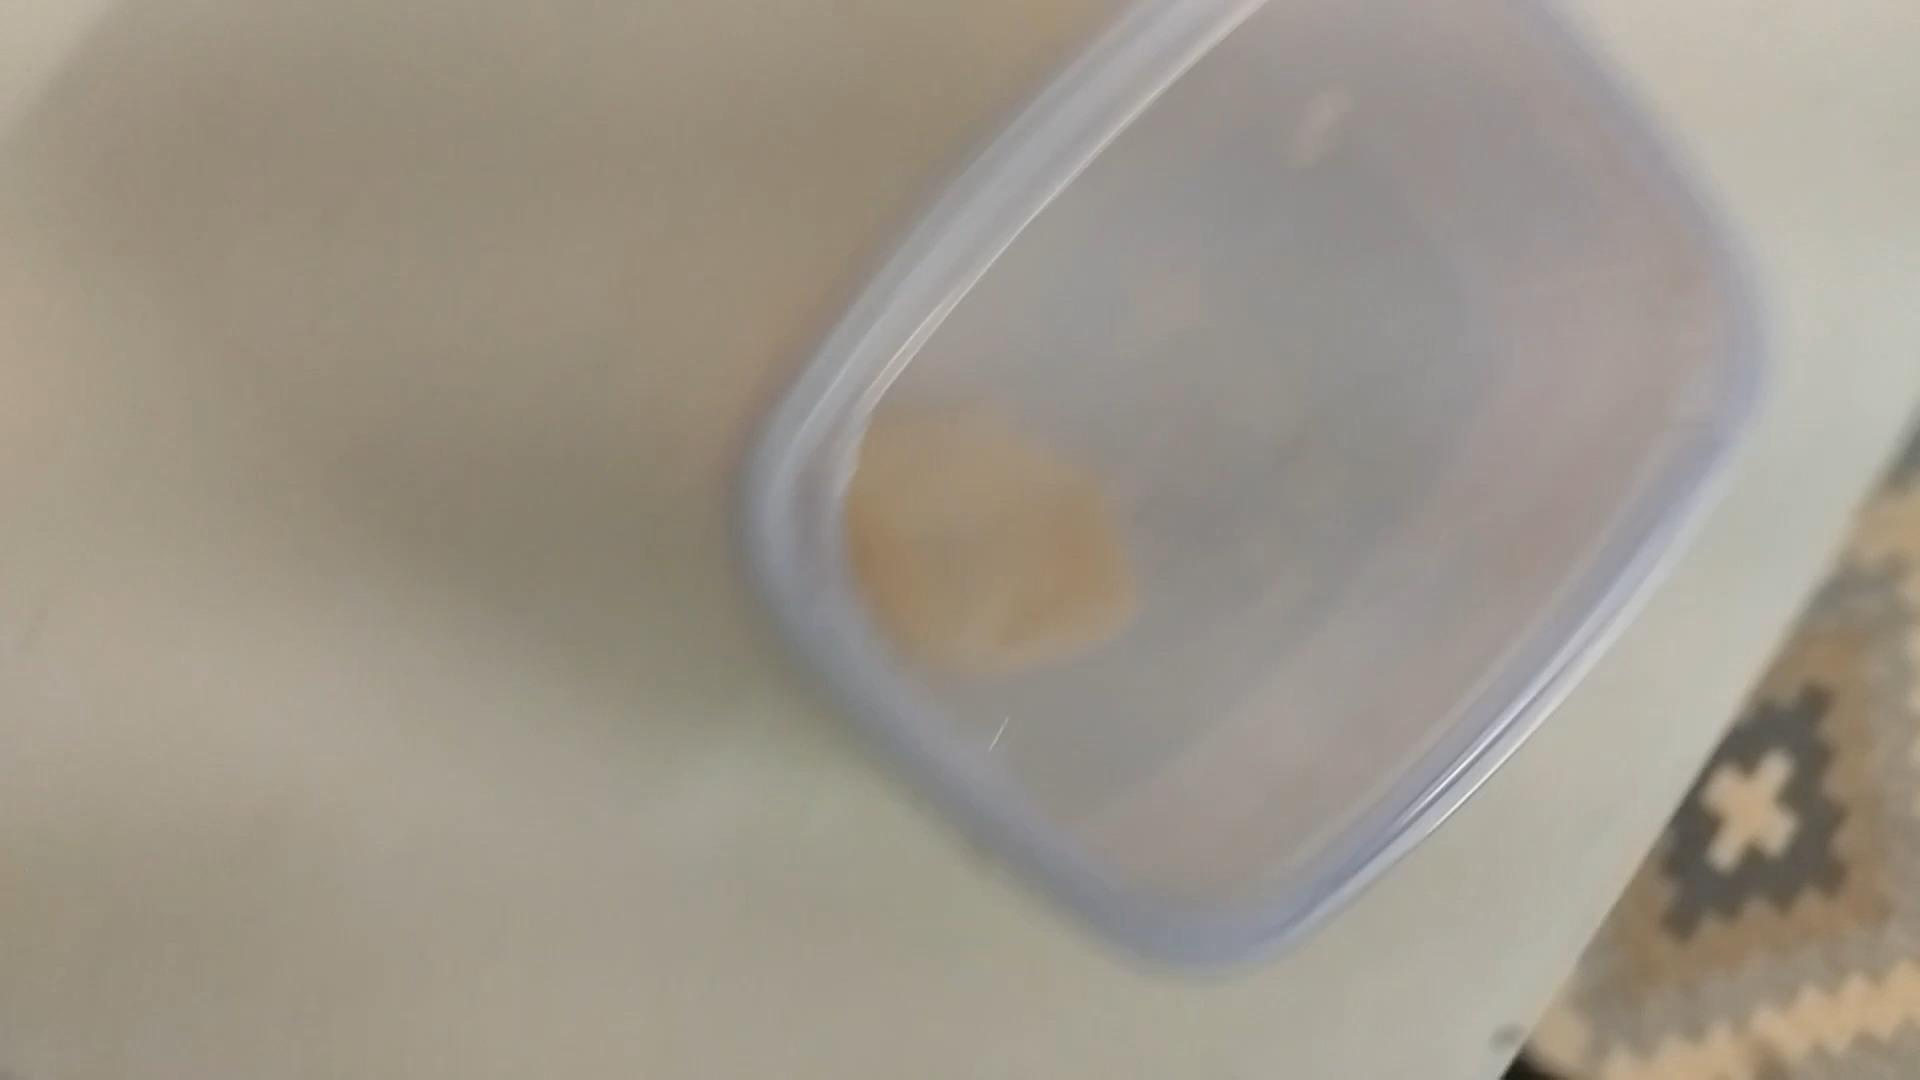butter: (717, 0, 1800, 996)
